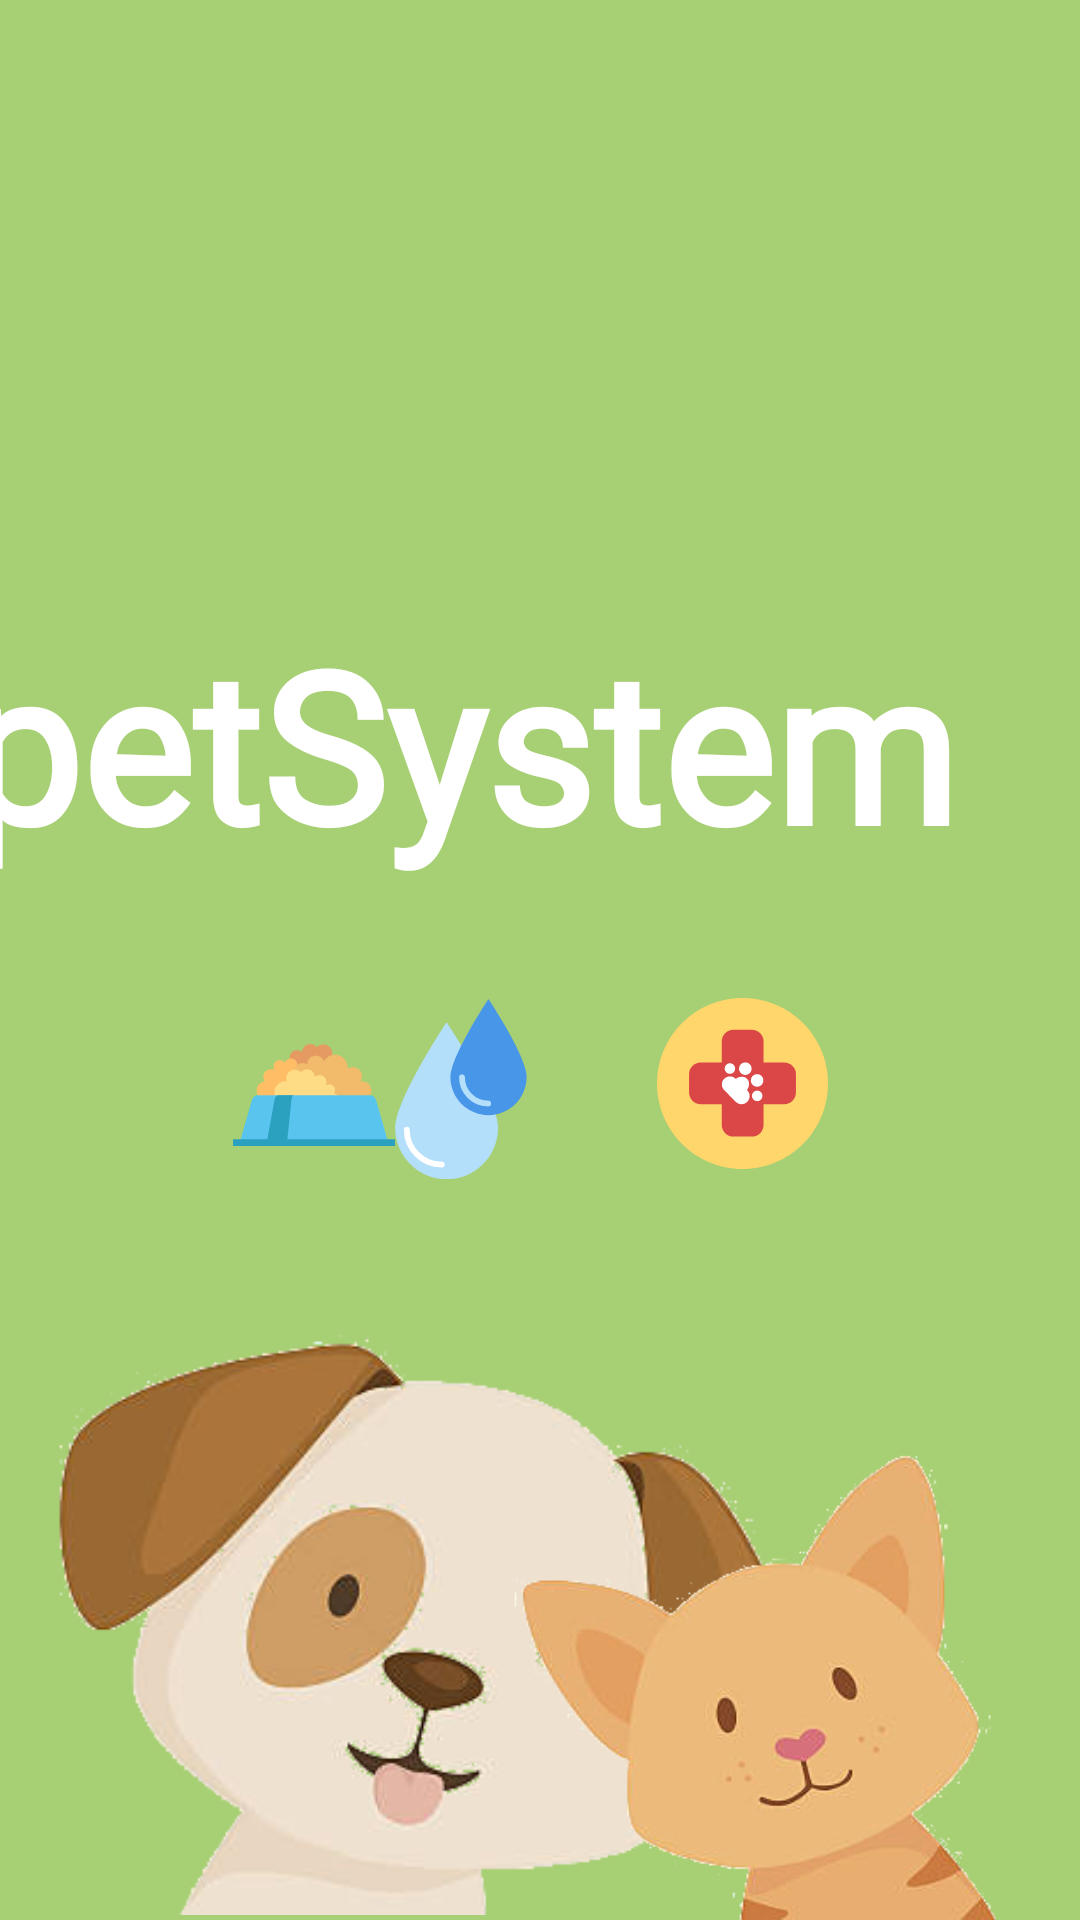

Named icons in this screenshot (1080px×1920px) and their centers, (x=x, y=y):
Health icon: (x=742, y=1083)
